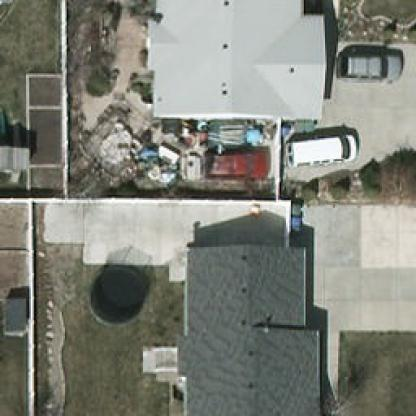car: (335, 54, 403, 81)
pickup: (204, 150, 266, 178)
van: (286, 135, 359, 166)
